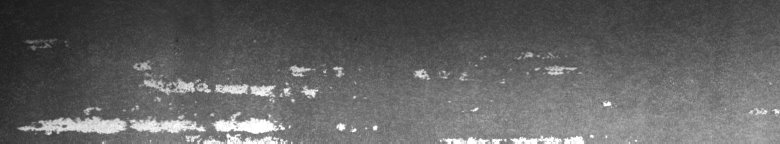kb: (17, 39, 612, 136)
